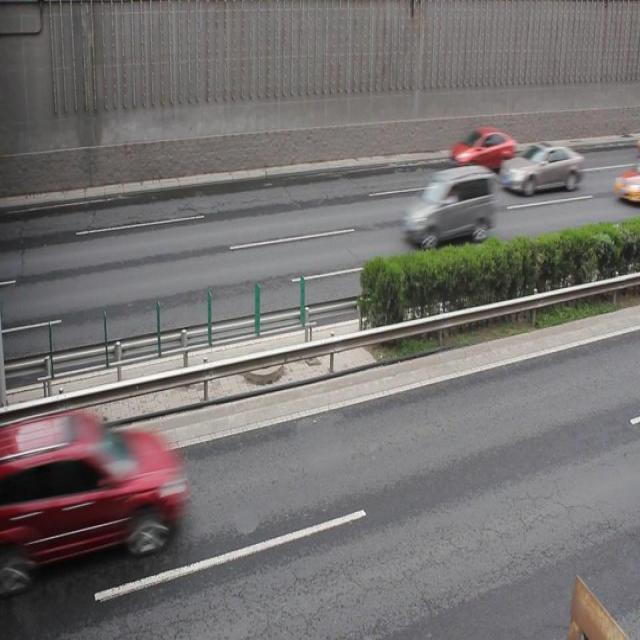car: (1, 412, 183, 578), (499, 139, 583, 196), (450, 126, 515, 174)
truck: (404, 166, 492, 243)
